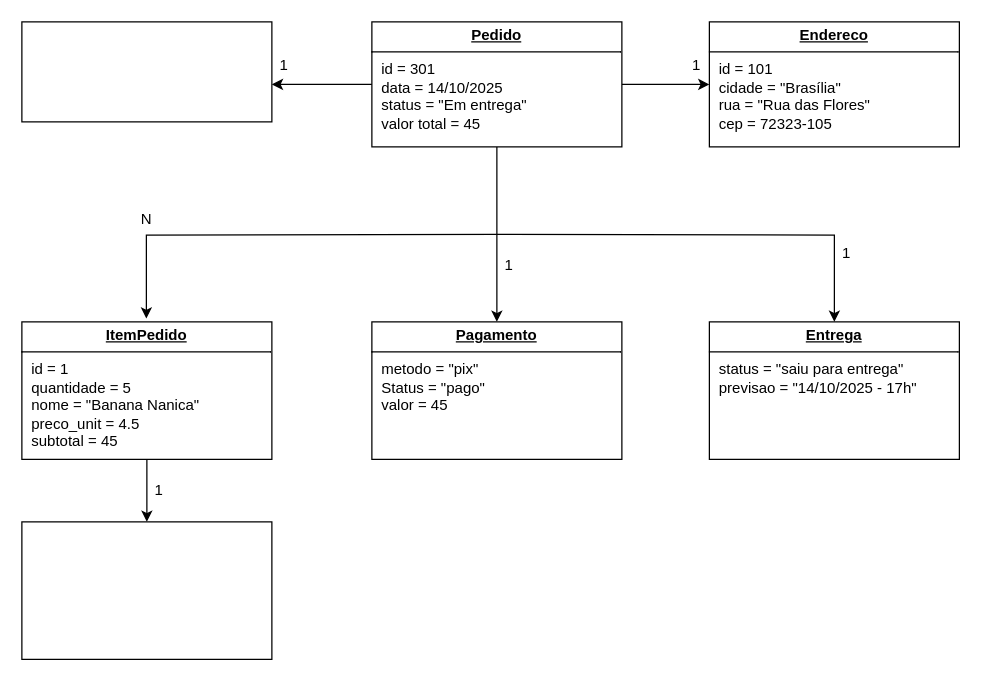
Some shapes in this 981 by 681 pixel diagram are drawn without their labels. Here are the shapes that lost their labels. From the top down, the centre of each, then its label:
the point at 146,71: Usuario id = 1 nome = "João Silva" email = "joao@gmail.com"
the point at 146,590: Produtos id = 1 nome = "Banana Nanica" preco = 4.5 quantidade = 5
